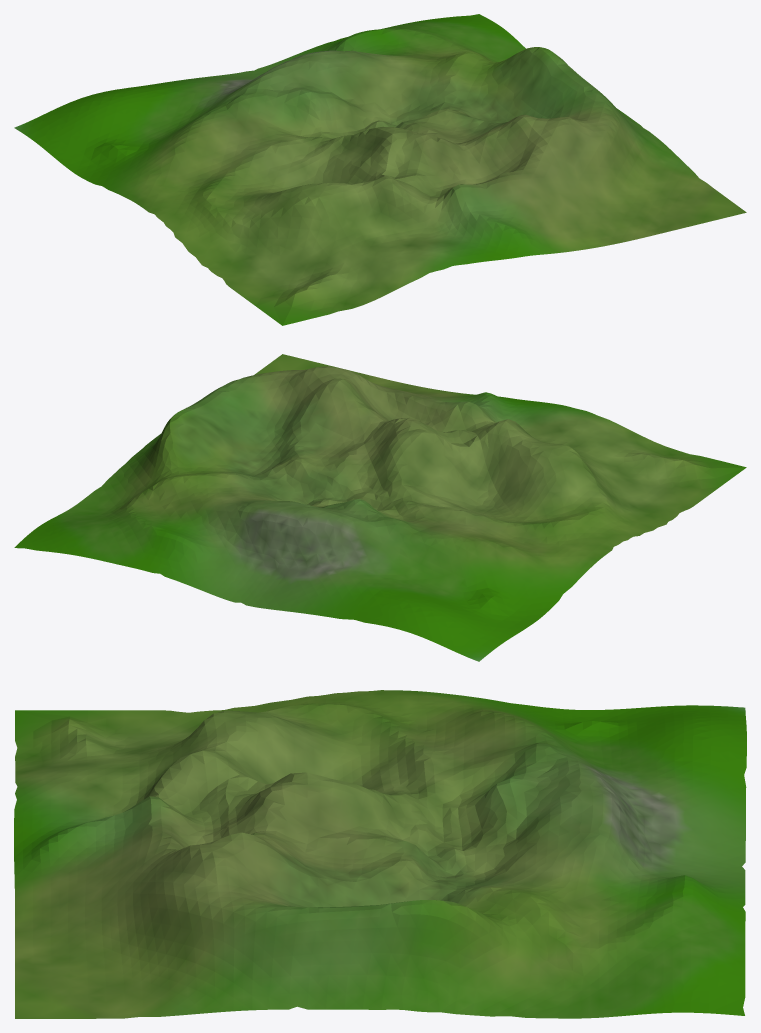
The model's file is terrain.fbx.
3 renders of one model, top to bottom at view 1: azimuth 30°, elevation 25°; view 2: azimuth 150°, elevation 25°; view 3: azimuth 270°, elevation 25°, orthographic. The views are drawn at different scales.
Parts seen in each view (by area): view 1: terrain; view 2: terrain; view 3: terrain.
Part boxes in pixels (x1,y1,x2,y2): terrain: [14, 14, 746, 325]; terrain: [14, 354, 746, 661]; terrain: [14, 690, 746, 1018].
Bounding box in the file's own units: 8041 × 1127 × 8032.
